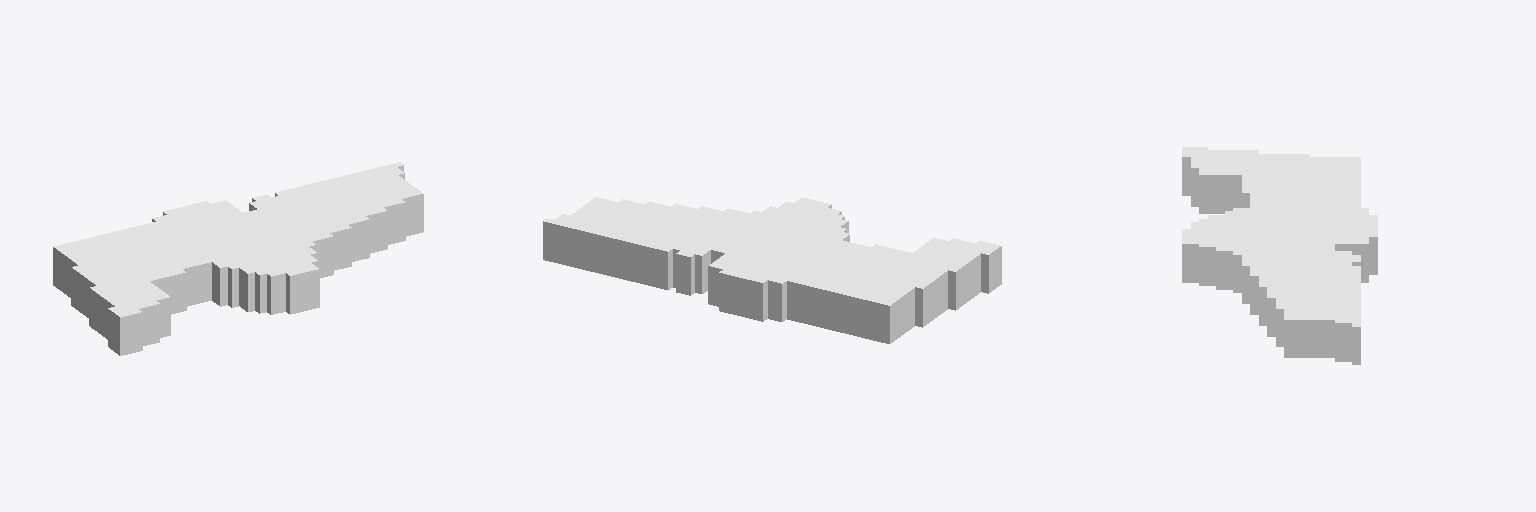
File: bat31.obj
3 views of the same model, side by side, from view 1: azimuth 30°, elevation 25°; view 2: azimuth 150°, elevation 25°; view 3: azimuth 270°, elevation 25° (orthographic).
Size of the model in its own units: 50 by 5 by 23.